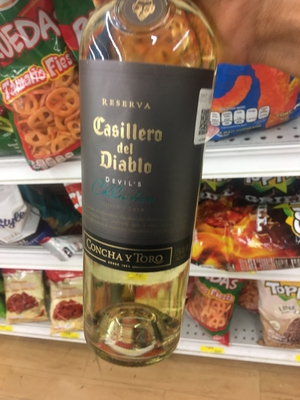casillero del diablo devils collection verde: (80, 4, 213, 358)
